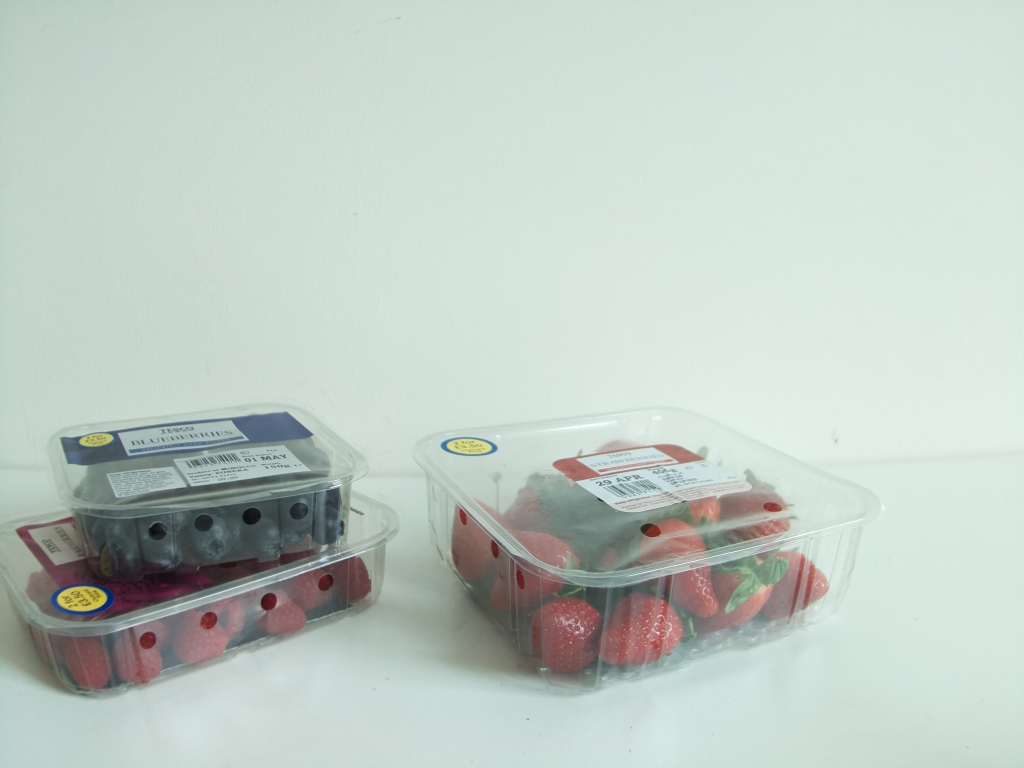soft-fruit: (412, 401, 884, 677), (1, 489, 410, 696), (45, 405, 368, 570)
